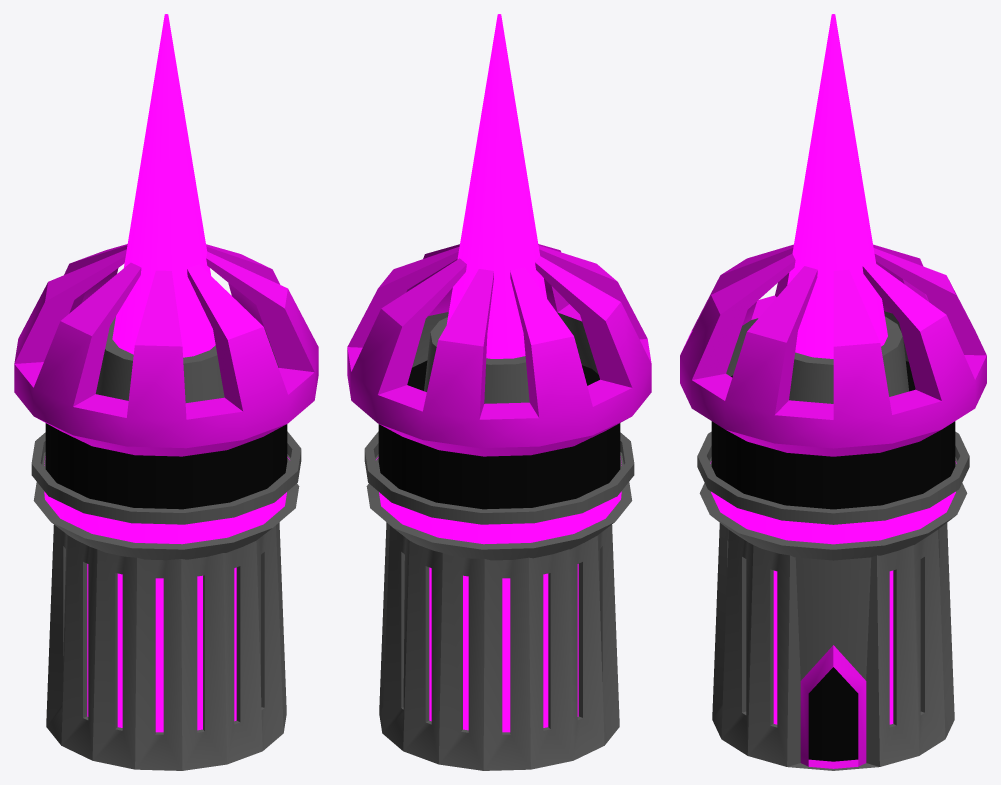
The model's file is Magic Tower.fbx.
3 renders of one model, left to right at view 1: azimuth 30°, elevation 25°; view 2: azimuth 150°, elevation 25°; view 3: azimuth 270°, elevation 25°, orthographic.
Visible parts, largest first — view 1: Cylinder.005; view 2: Cylinder.005; view 3: Cylinder.005.
Boxes of the visible parts, x1=… form: Cylinder.005: x1=14, y1=14, x2=318, y2=770; Cylinder.005: x1=347, y1=14, x2=651, y2=770; Cylinder.005: x1=680, y1=14, x2=986, y2=770.
Bounding box in the file's own units: 476 × 1207 × 476.
